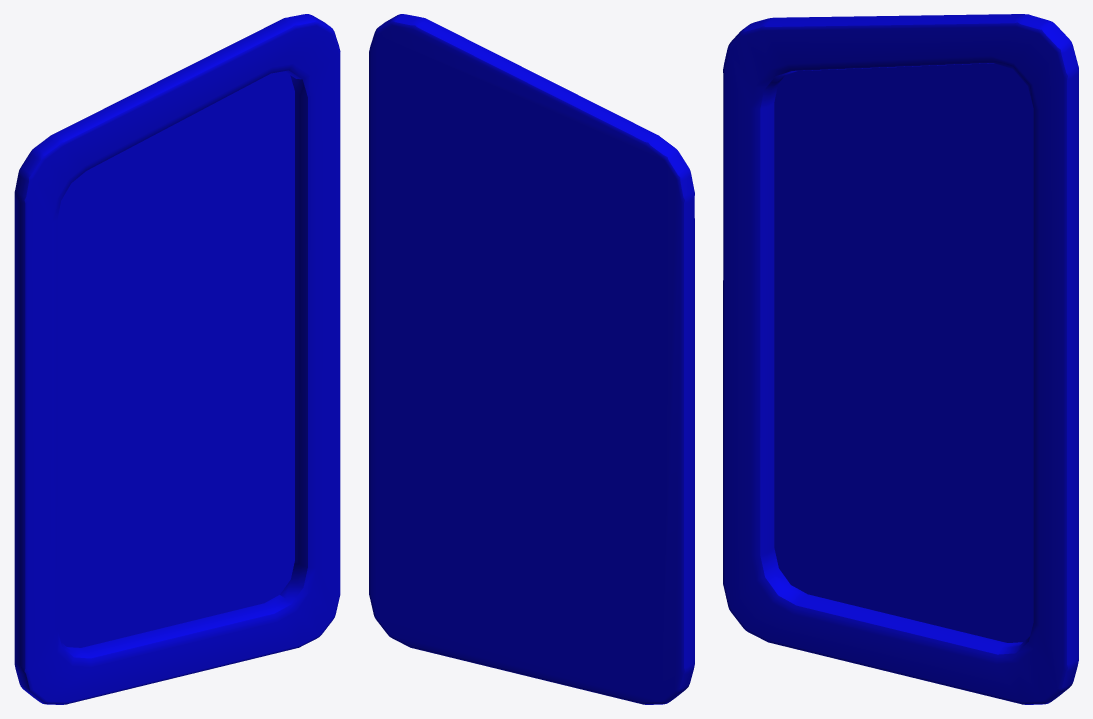
File: PaintingA_msh.fbx
The picture shows the model from 3 angles, left to right: view 1: azimuth 30°, elevation 25°; view 2: azimuth 150°, elevation 25°; view 3: azimuth 330°, elevation 25°; orthographic projection. The views are drawn at different scales.
Visible parts, largest first — view 1: PaintingA_msh; view 2: PaintingA_msh; view 3: PaintingA_msh.
Part boxes in pixels (x1,y1,x2,y2): PaintingA_msh: (14, 14, 340, 704); PaintingA_msh: (369, 14, 694, 704); PaintingA_msh: (723, 14, 1078, 704).
Bounding box in the file's own units: 30 × 56.28 × 2.
